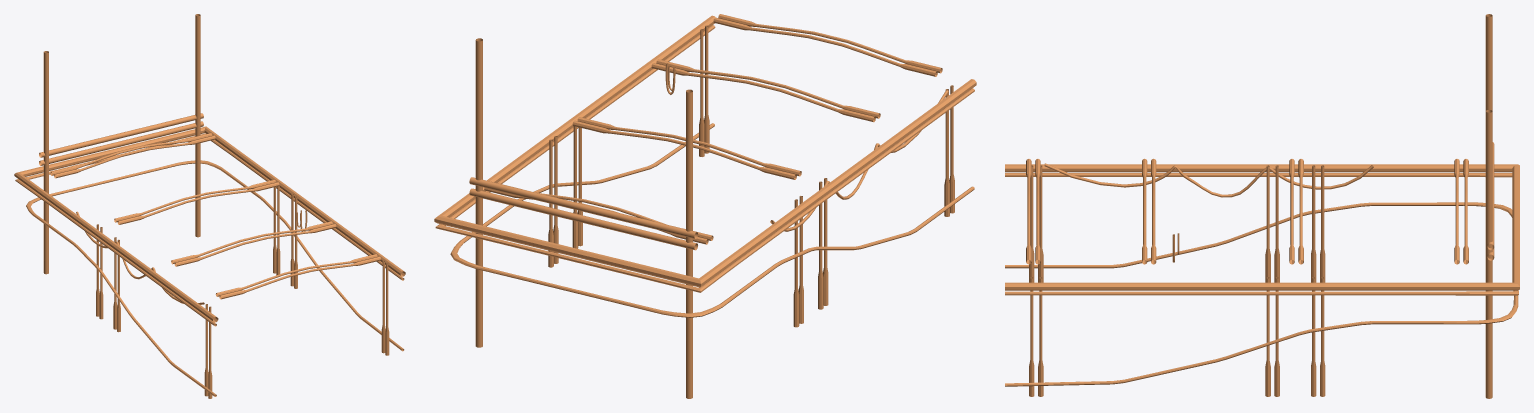
Rendered from girders_01.fbx.
3 renders of one model, left to right at view 1: azimuth 30°, elevation 25°; view 2: azimuth 150°, elevation 25°; view 3: azimuth 270°, elevation 25°, orthographic. The views are drawn at different scales.
Visible parts, largest first — view 1: girders_01, wallPipes_01, wallWire_01; view 2: girders_01, wallPipes_01, wallWire_01, hanging_wire_01; view 3: wallPipes_01, girders_01, wallWire_01, hanging_wire_01.
Part boxes in pixels (x1,y1,x2,y2): girders_01: [39, 14, 389, 398]; wallPipes_01: [14, 126, 405, 326]; wallWire_01: [26, 160, 404, 396]; girders_01: [469, 14, 954, 398]; wallPipes_01: [434, 15, 976, 292]; wallWire_01: [450, 123, 974, 317]; hanging_wire_01: [770, 90, 948, 231]; wallPipes_01: [1005, 164, 1519, 295]; girders_01: [1026, 14, 1494, 398]; wallWire_01: [1005, 202, 1518, 386]; hanging_wire_01: [1044, 163, 1373, 197].
Size of the model in its own units: 24.36 by 26.72 by 43.56.
